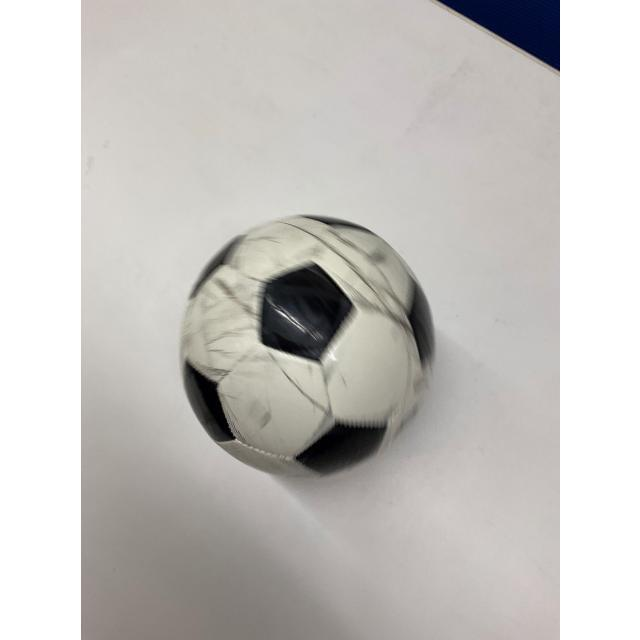ball: (176, 214, 432, 480)
